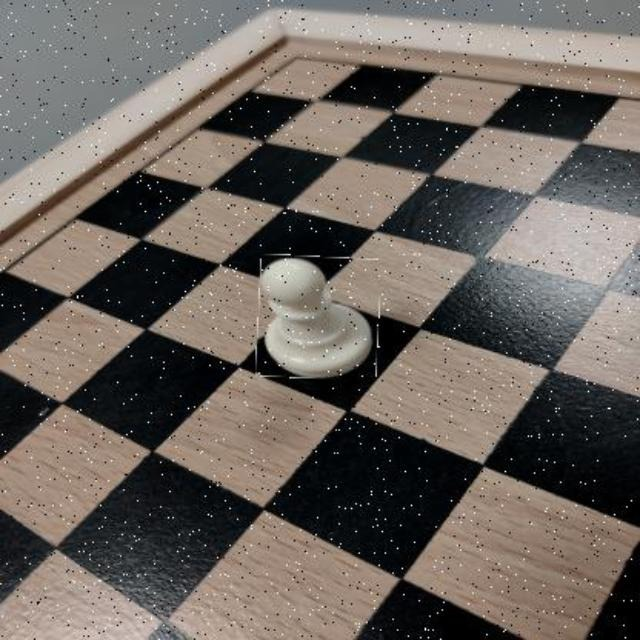white-pawn: (256, 256, 379, 380)
